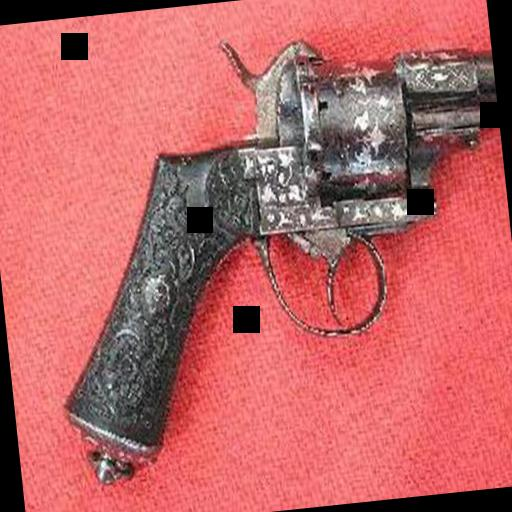Handgun: (28, 7, 512, 489)
